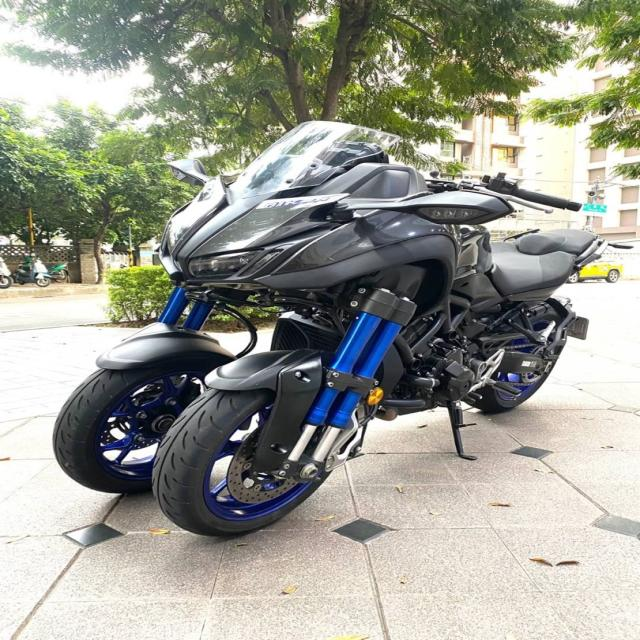Bike: (53, 121, 608, 536)
